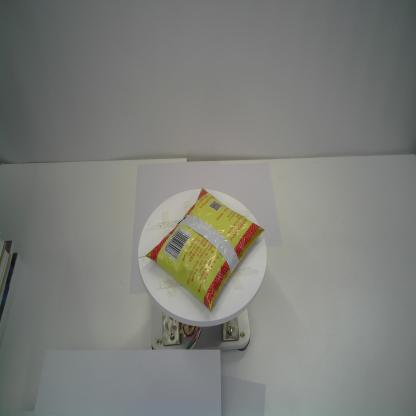Seasoner: (145, 186, 264, 312)
